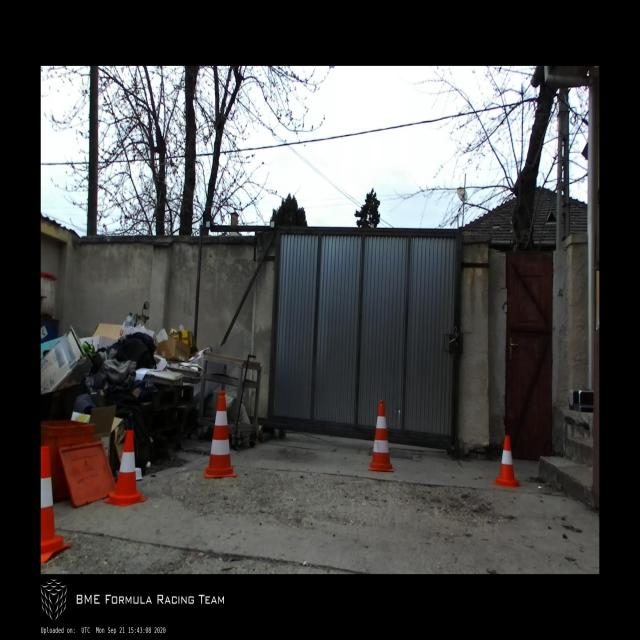large_orange_cone: (203, 393, 237, 479), (368, 400, 394, 472)
orange_cone: (41, 446, 72, 563), (103, 429, 147, 506), (492, 435, 522, 487)
